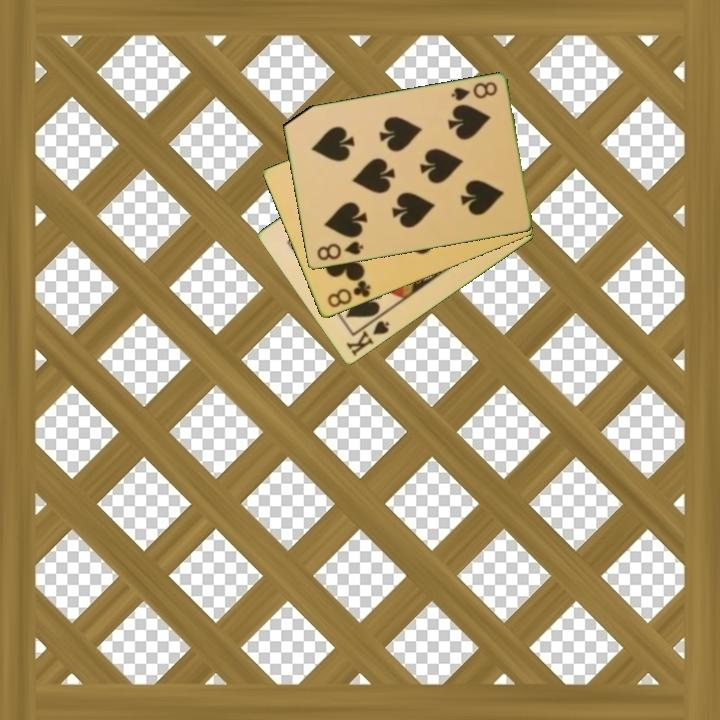8c: (324, 277, 374, 311)
8s: (313, 238, 366, 264), (447, 78, 500, 104)
Ks: (342, 317, 392, 360)
